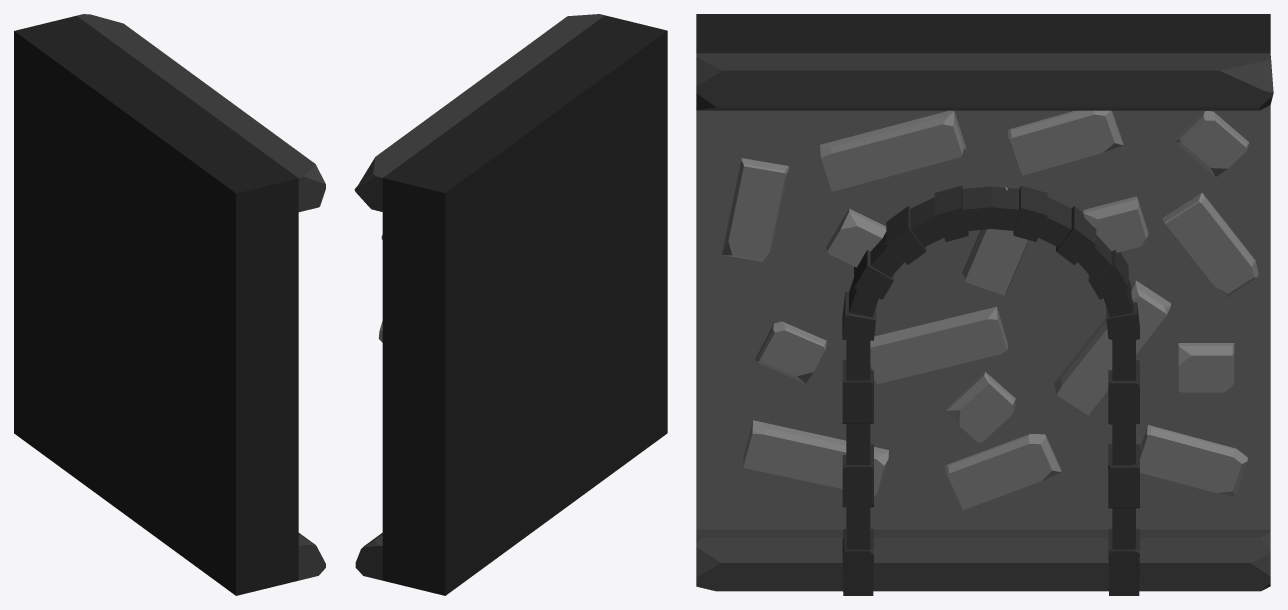
The model's file is dungeon_modules_glb_door_part.glb.
The picture shows the model from 3 angles, left to right: view 1: azimuth 30°, elevation 25°; view 2: azimuth 150°, elevation 25°; view 3: azimuth 270°, elevation 25°; orthographic projection. The views are drawn at different scales.
Visible parts, largest first — view 1: Cube.001; view 2: Cube.001; view 3: Cube.001.
Boxes of the visible parts, x1,y1,x2,y2 form: Cube.001: (14,14,325,595); Cube.001: (354,14,667,595); Cube.001: (696,14,1273,595).
Size of the model in its own units: 0.4165 by 1.63 by 1.64.
1 material, 1 textured.
